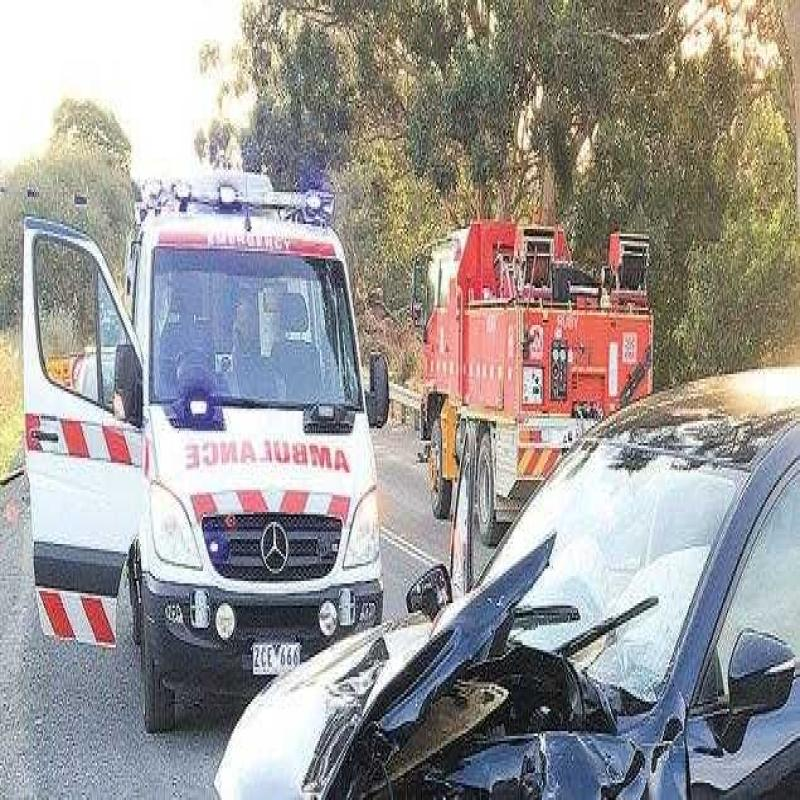AmbulanceSiren: (169, 165, 328, 236)
